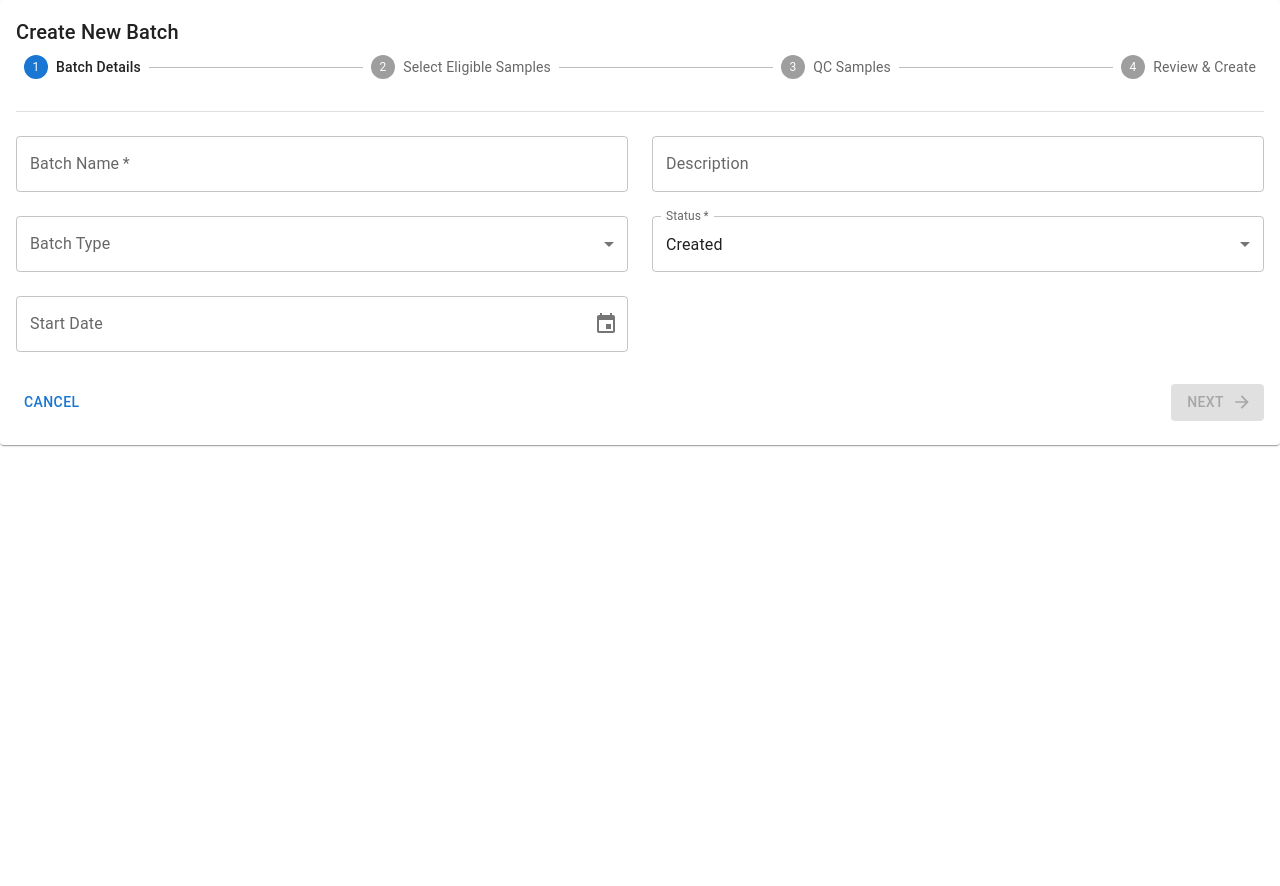
Test case: BatchFormEnhanced › Step Navigation › navigates to next step when Next is clicked
Note: Fill in required fields
In the field labelled "Batch Name": x=322, y=164 [16, 136, 628, 192], type "Test Batch"
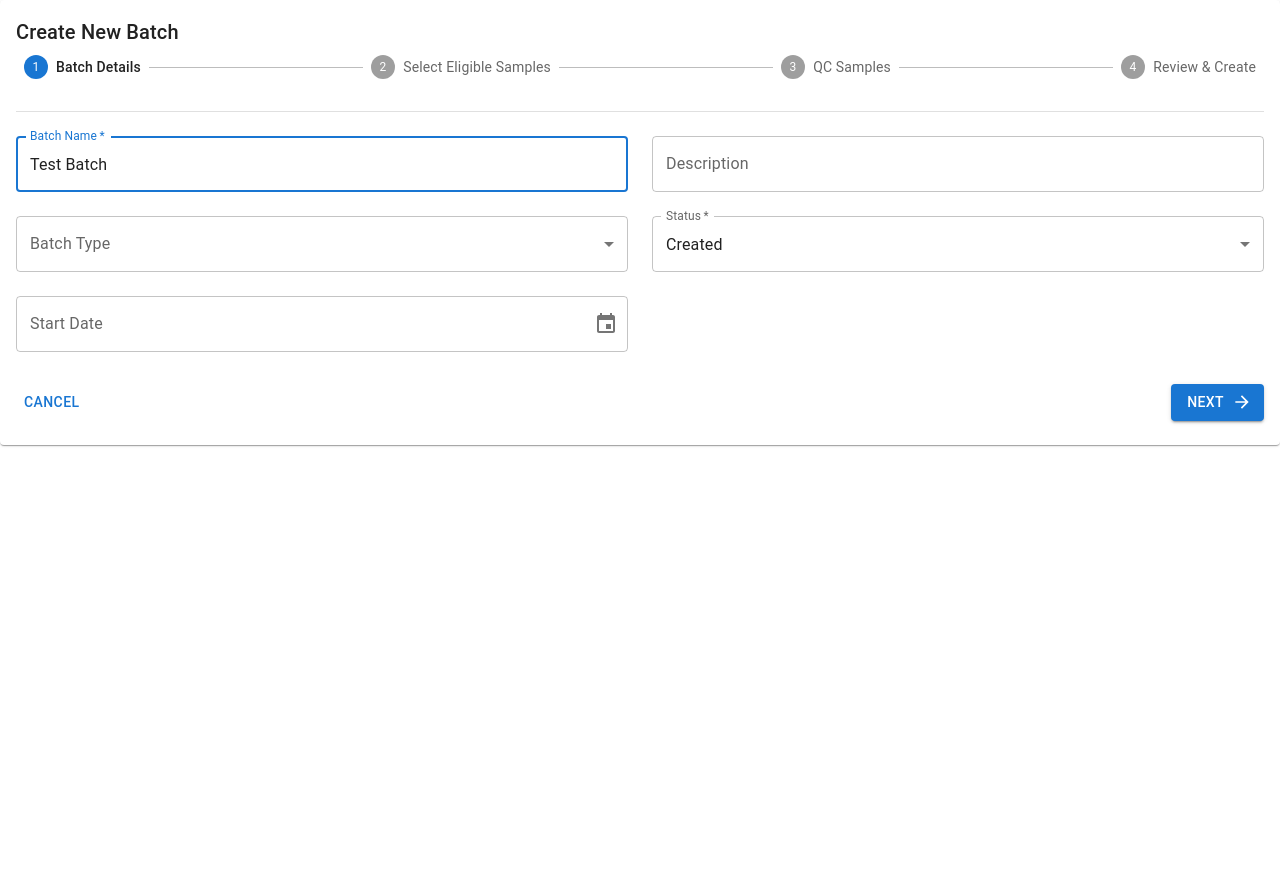
Note: Click Next
Click the button "Next": x=1218, y=402 [1171, 384, 1264, 420]
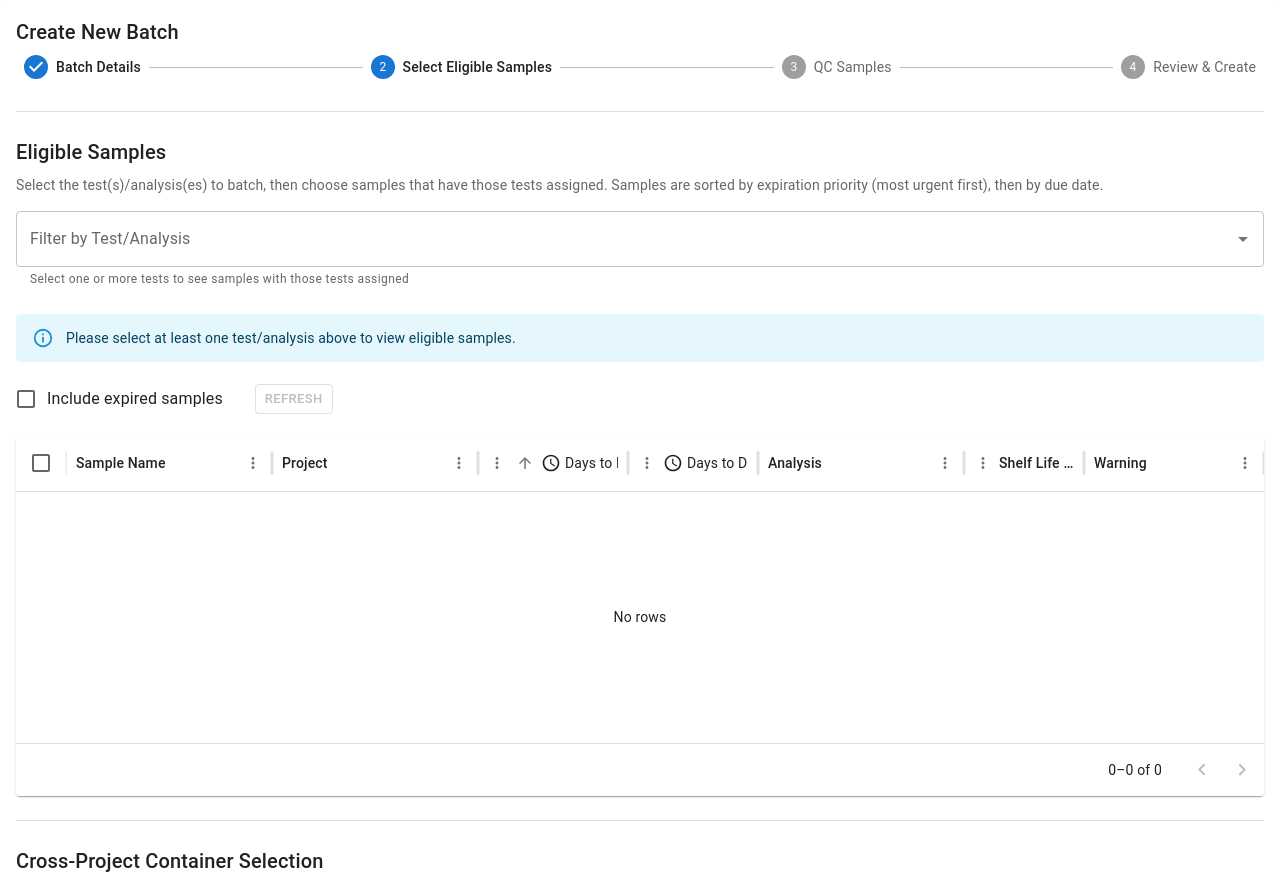
Expected: the heading "Eligible Samples" is shown, [16, 140, 166, 164]
